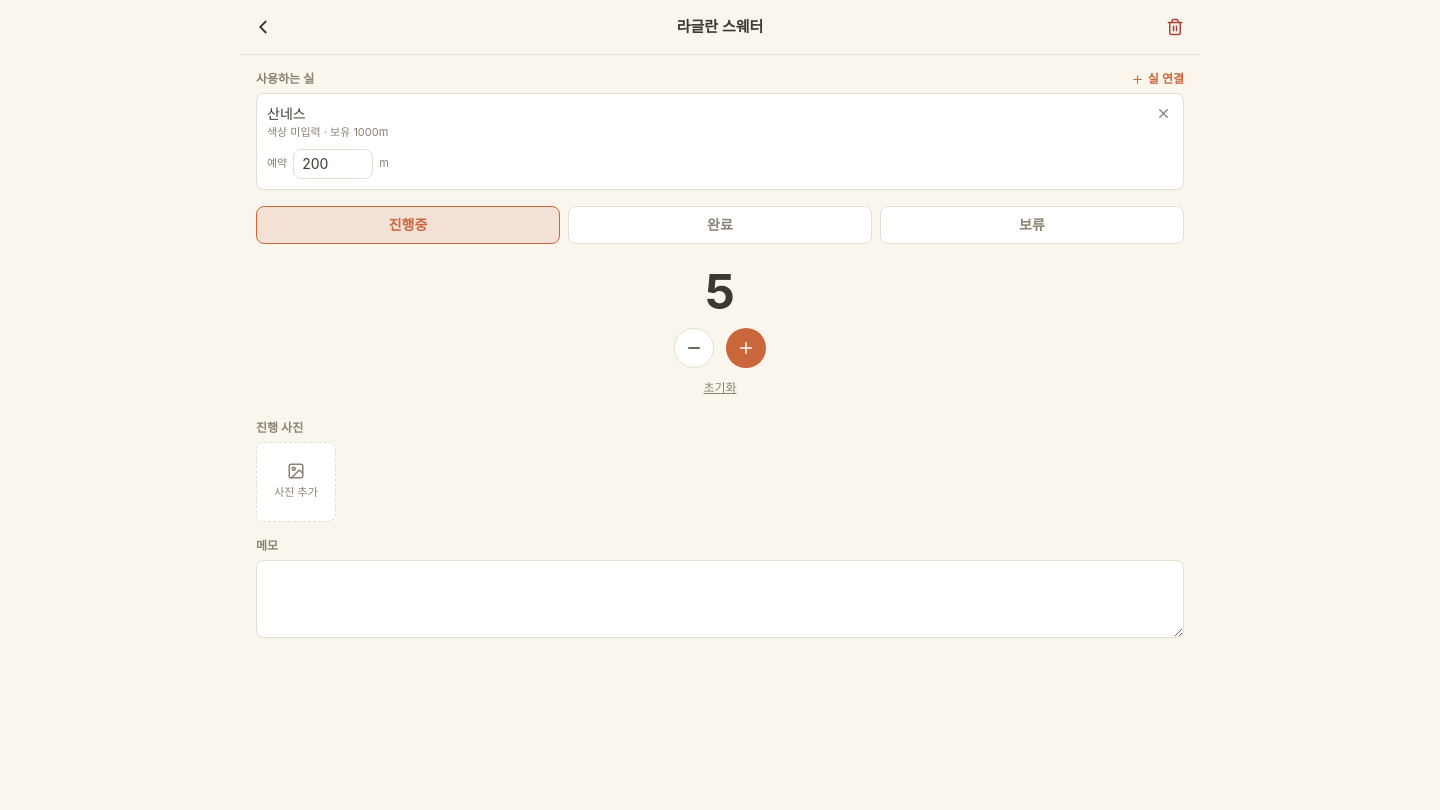
Test case: ProjectDetailPage 완료 처리 › 완료 저장이 거부되면 모달을 그대로 두고 사유를 토스트로 보여준다
Expected: the text "산네스" is shown, [267,105,306,122]
Click the button "완료" at (720, 224), box [568,206,872,244]
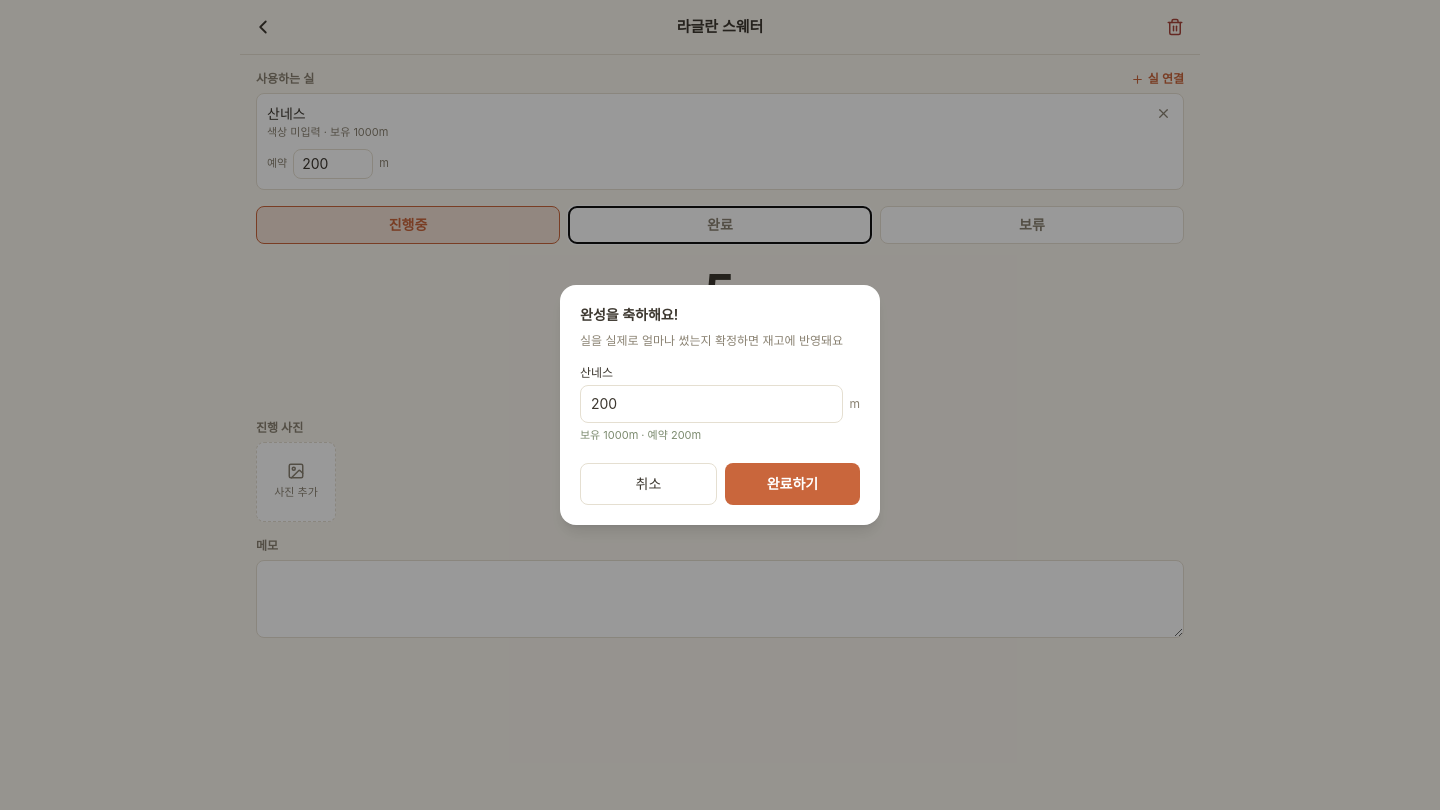
Click the button "완료하기" at (792, 484), box [725,463,860,505]
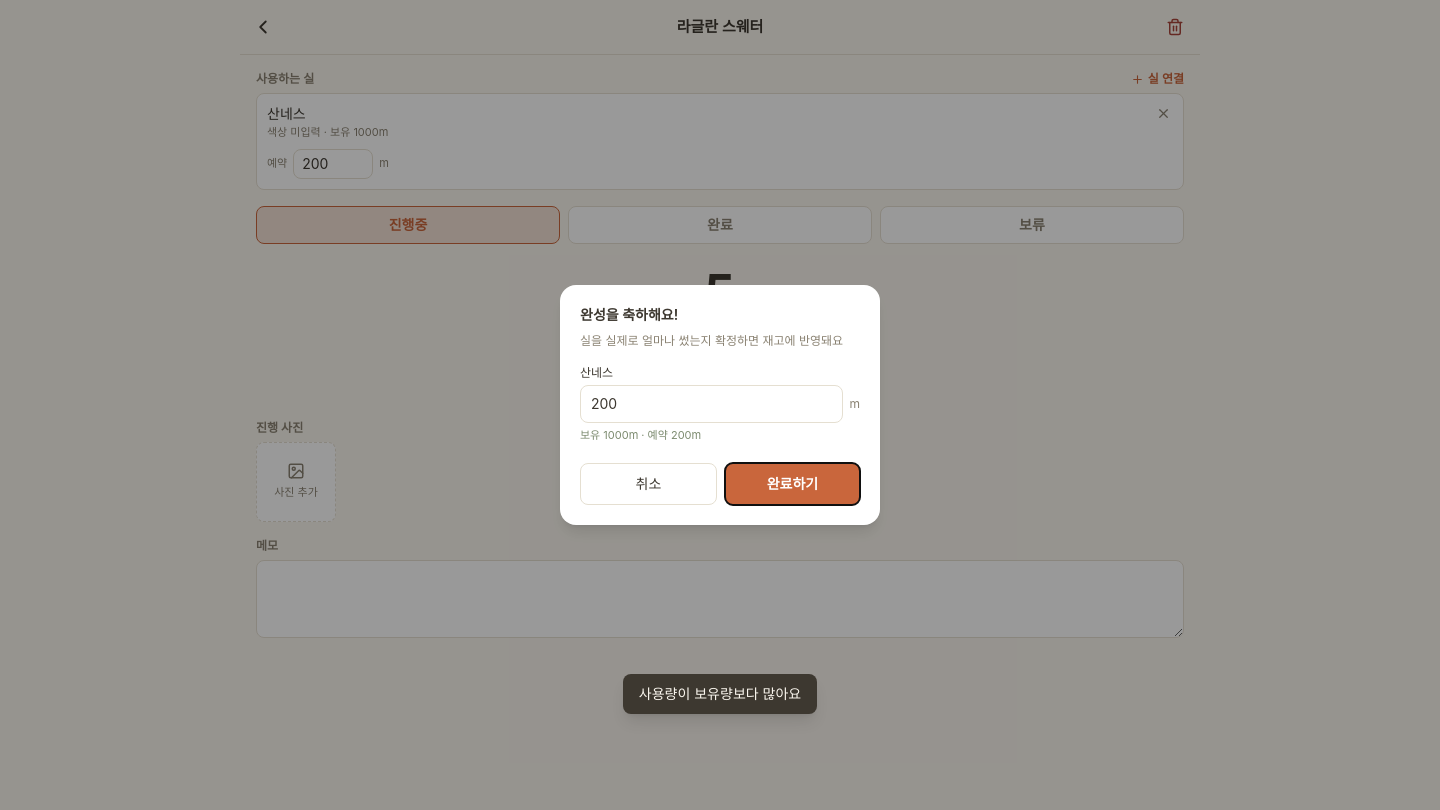
Now the text "완성을 축하해요!" is shown, box [580,306,678,323]
Now the message reads "사용량이 보유량보다 많아요", box [639,685,801,702]
